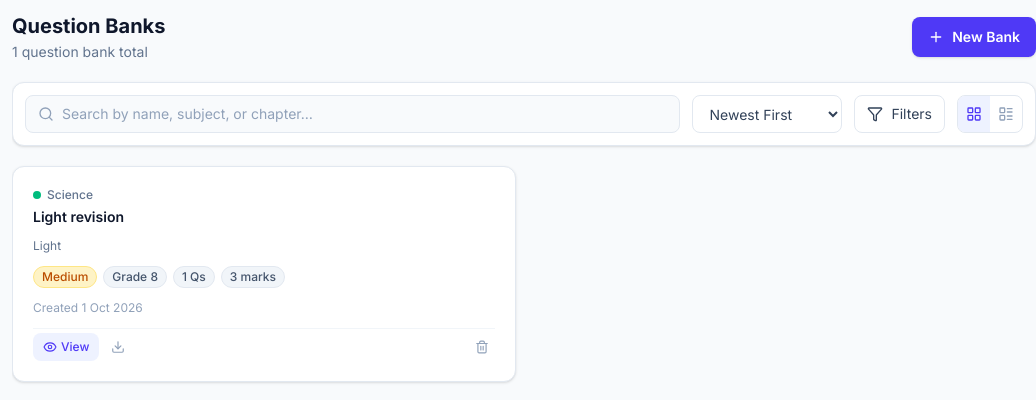
Test: Question banks list: who sees Edit › hides Edit from students in both views, but keeps View and Delete
The image size is (1036, 400).
expect the button named "Delete" is shown: met, box [469,334,495,360]
Click the button named "List view" at (1006, 114), box [990,96,1022,132]
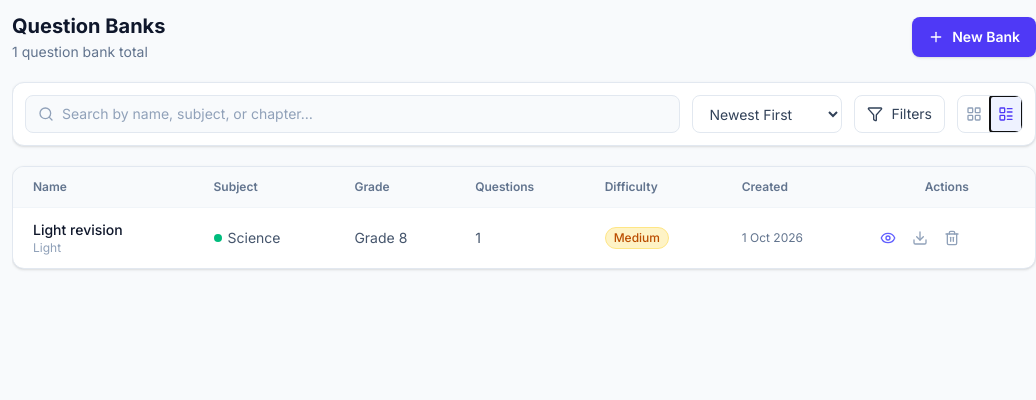
expect the button named "View" is shown: met, box [874,224,902,252]
expect the button named "Delete" is shown: met, box [938,224,966,252]
